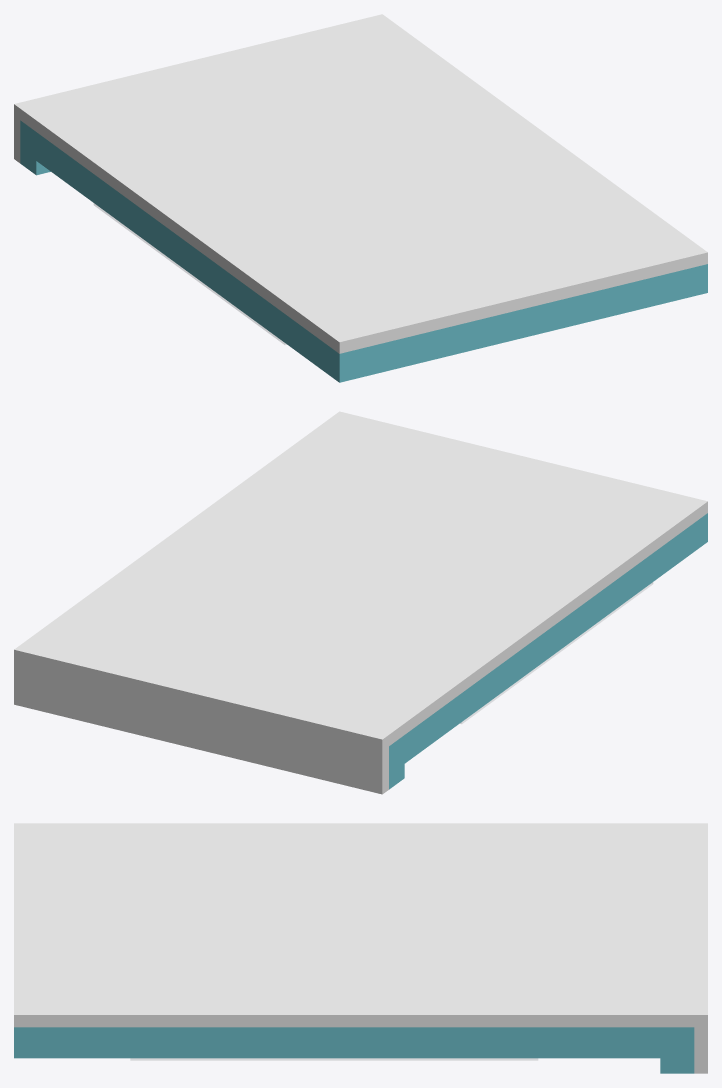
The model's file is tinker.obj.
3 views of the same model, one above another, from view 1: azimuth 30°, elevation 25°; view 2: azimuth 150°, elevation 25°; view 3: azimuth 270°, elevation 25° (orthographic). The views are drawn at different scales.
Parts seen in each view (by area): view 1: group_0_16448250, group_0_7720667; view 2: group_0_16448250, group_0_7720667; view 3: group_0_16448250, group_0_7720667, group_0_-1025645852.
Boxes of the visible parts, <box> form: group_0_16448250: <box>14,14,707,353</box>; group_0_7720667: <box>20,120,707,382</box>; group_0_16448250: <box>14,411,707,794</box>; group_0_7720667: <box>389,513,707,789</box>; group_0_16448250: <box>14,823,707,1073</box>; group_0_7720667: <box>14,1027,694,1073</box>; group_0_-1025645852: <box>130,1058,537,1060</box>.
Size of the model in its own units: 20 by 2.85 by 30.6.
